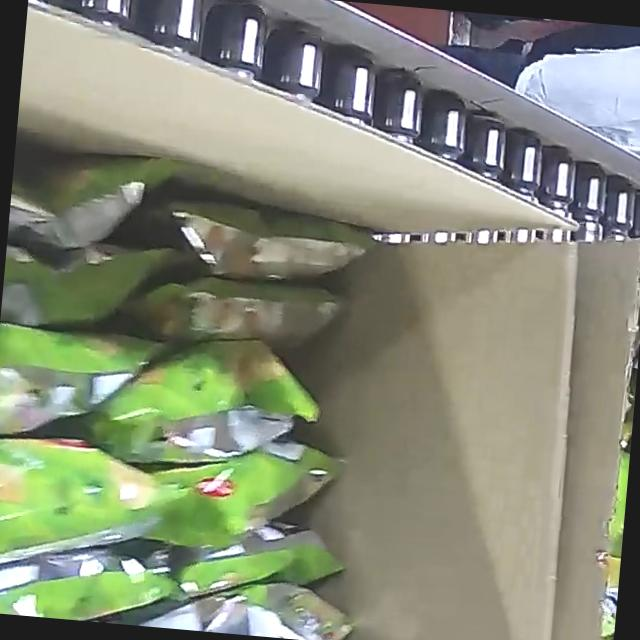yogurt: (0, 104, 443, 640)
